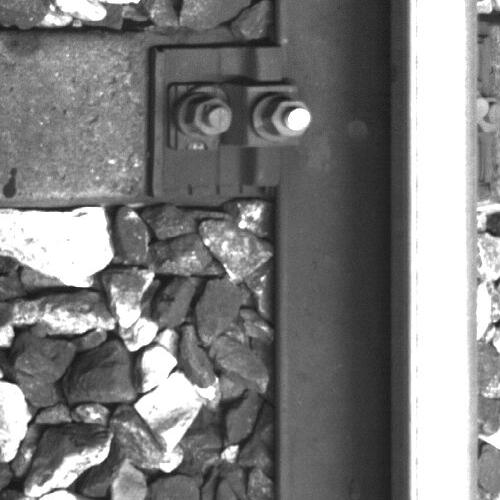kb: (156, 45, 317, 196)
nut: (184, 94, 235, 138), (262, 99, 312, 140)
rail: (408, 1, 477, 500)
tie_concr: (1, 34, 274, 194)
